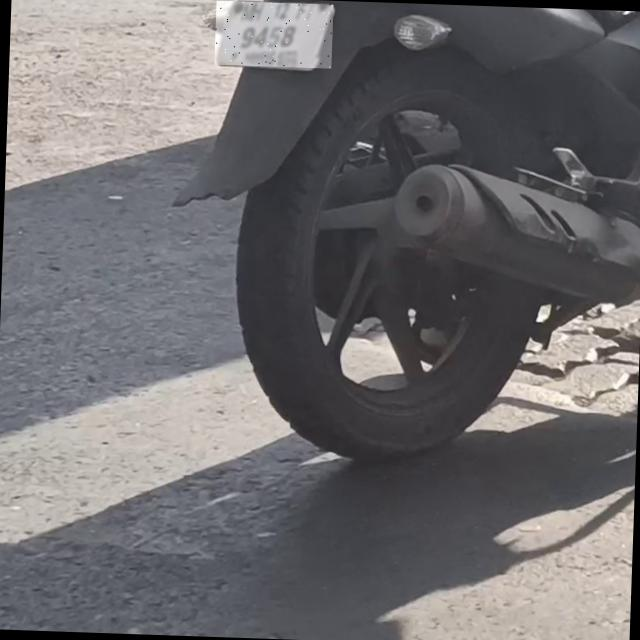Plate: (215, 1, 334, 69)
